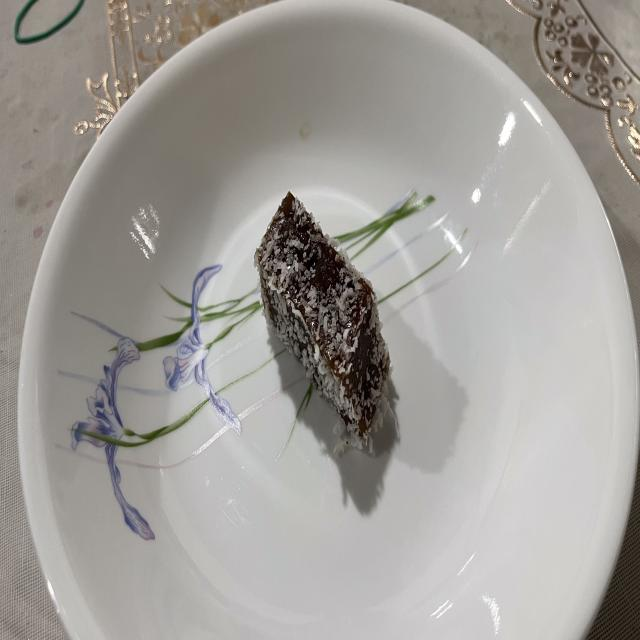kaswi: (254, 193, 390, 451)
